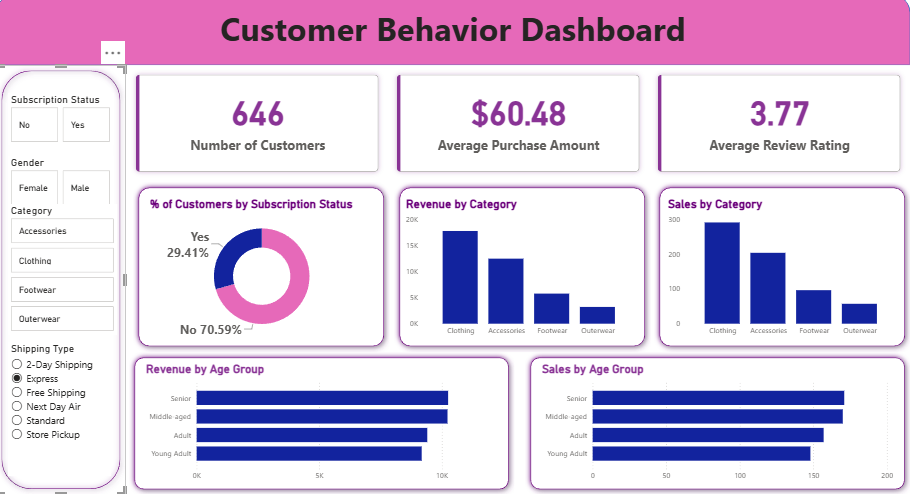

The page's visual inventory and layout, read from the dashboard file:
{"tool":"powerbi","page":{"name":"Page 1","canvas":[1500,820],"ordinal":0},"visuals":[{"type":"cardVisual","fields":{"Data":["public customer.Number of Customers","public customer.Average Purchase Amount","public customer.Average Review Rating"]},"box":[212.9,115.3,1286.5,191.6],"z":2000},{"type":"shape","box":[218.3,585.6,631.7,234.2],"z":2500,"group":"g1"},{"type":"shape","box":[0,0,1499.4,115.3],"z":3000},{"type":"textbox","box":[0,12.4,1499.4,102.9],"z":4000},{"type":"shape","box":[225.4,307,420.5,278.6],"z":5000},{"type":"donutChart","title":"% of Customers by Subscription Status","fields":{"Category":["public customer.subscription_status"],"Y":["CountNonNull(public customer.customer_id)"]},"box":[248.4,331.8,376.2,237.8],"z":6000},{"type":"shape","box":[1078.9,307,420.5,278.6],"z":7000},{"type":"shape","box":[652.1,307,420.5,278.6],"z":8000},{"type":"clusteredColumnChart","title":"Revenue by Category","fields":{"Y":["Sum(public customer.purchase_amount)"],"Category":["public customer.category"]},"box":[667.2,331.8,385.1,237.8],"z":9000},{"type":"clusteredColumnChart","title":"Sales by Category","fields":{"Y":["CountNonNull(public customer.customer_id)"],"Category":["public customer.category"]},"box":[1096.6,331.8,385.1,237.8],"z":10000},{"type":"shape","box":[0,115.3,212.9,704.5],"z":11000},{"type":"advancedSlicerVisual","fields":{"Values":["public customer.subscription_status"]},"box":[19.5,161.5,173.9,85.2],"z":12000},{"type":"advancedSlicerVisual","fields":{"Values":["public customer.gender"]},"box":[19.5,264.4,173.9,85.2],"z":13000},{"type":"advancedSlicerVisual","fields":{"Values":["public customer.category"]},"box":[19.7,342.8,178.8,214.8],"z":14000},{"type":"listSlicer","fields":{"Values":["public customer.shipping_type"]},"box":[19.5,569.6,168.6,220],"z":15000},{"type":"shape","box":[867.7,585.6,631.7,234.2],"z":16000},{"type":"clusteredBarChart","title":"Sales by Age Group","fields":{"Y":["CountNonNull(public customer.customer_id)"],"Category":["public customer.age_group"]},"box":[890.8,601.5,585.6,204.1],"z":17000},{"type":"clusteredBarChart","title":"Revenue by Age Group","fields":{"Y":["Sum(public customer.purchase_amount)"],"Category":["public customer.age_group"]},"box":[241.4,601.6,585.6,204.1],"z":17500,"group":"g1"},{"type":"group","id":"g1","title":"Group 1","box":[218.3,585.6,631.7,234.2],"z":17501}]}

Visuals, with their boxes in screenshot pixels (x1, y1, x2, y2):
cardVisual - public customer.Number of Customers x public customer.Average Purchase Amount: x1=131 y1=64 x2=909 y2=182
shape: x1=134 y1=353 x2=522 y2=493
shape: x1=0 y1=0 x2=909 y2=64
textbox: x1=0 y1=1 x2=909 y2=64
shape: x1=139 y1=182 x2=397 y2=353
"% of Customers by Subscription Status" donutChart: x1=153 y1=197 x2=384 y2=343
shape: x1=663 y1=182 x2=909 y2=353
shape: x1=401 y1=182 x2=659 y2=353
"Revenue by Category" clusteredColumnChart: x1=410 y1=197 x2=647 y2=343
"Sales by Category" clusteredColumnChart: x1=674 y1=197 x2=909 y2=343
shape: x1=0 y1=64 x2=131 y2=493
advancedSlicerVisual - public customer.subscription_status: x1=12 y1=92 x2=119 y2=145
advancedSlicerVisual - public customer.gender: x1=12 y1=155 x2=119 y2=208
advancedSlicerVisual - public customer.category: x1=12 y1=204 x2=122 y2=336
listSlicer - public customer.shipping_type: x1=12 y1=343 x2=116 y2=478
shape: x1=533 y1=353 x2=909 y2=493
"Sales by Age Group" clusteredBarChart: x1=547 y1=363 x2=907 y2=488
"Revenue by Age Group" clusteredBarChart: x1=148 y1=363 x2=508 y2=488
"Group 1" group: x1=134 y1=353 x2=522 y2=493
